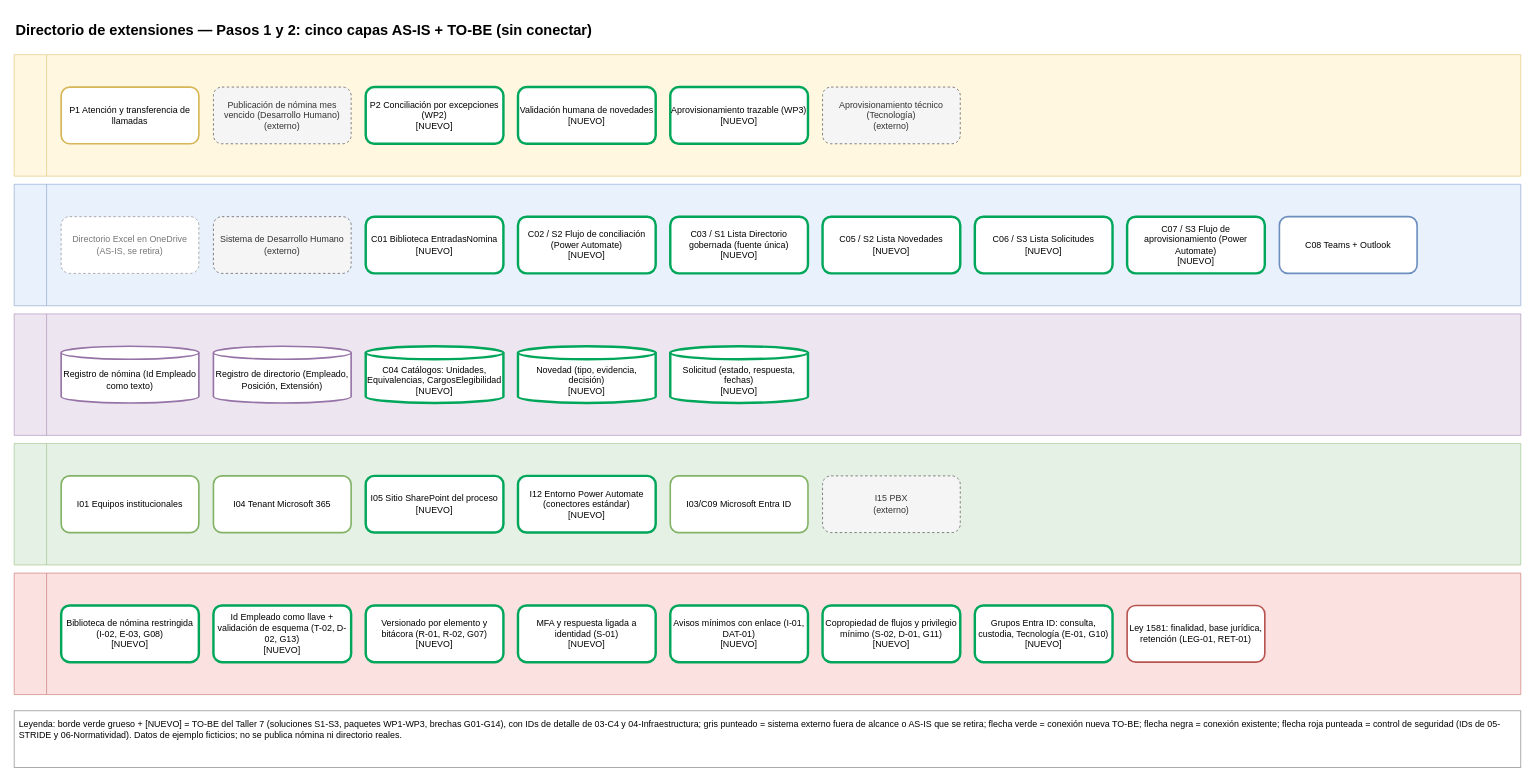
The diagram is 1535 pixels wide and 782 high, and some of its shapes have lost their labels. The box of each missing label's shape, as (x1, y1, x2, y2) in pixels:
Vista de Aplicaciones: (13, 183, 1521, 306)
Vista de Información: (13, 313, 1521, 435)
Vista de Infraestructura: (13, 443, 1521, 565)
Vista de Negocio: (13, 54, 1521, 176)
Vista de Seguridad: (13, 572, 1521, 695)
